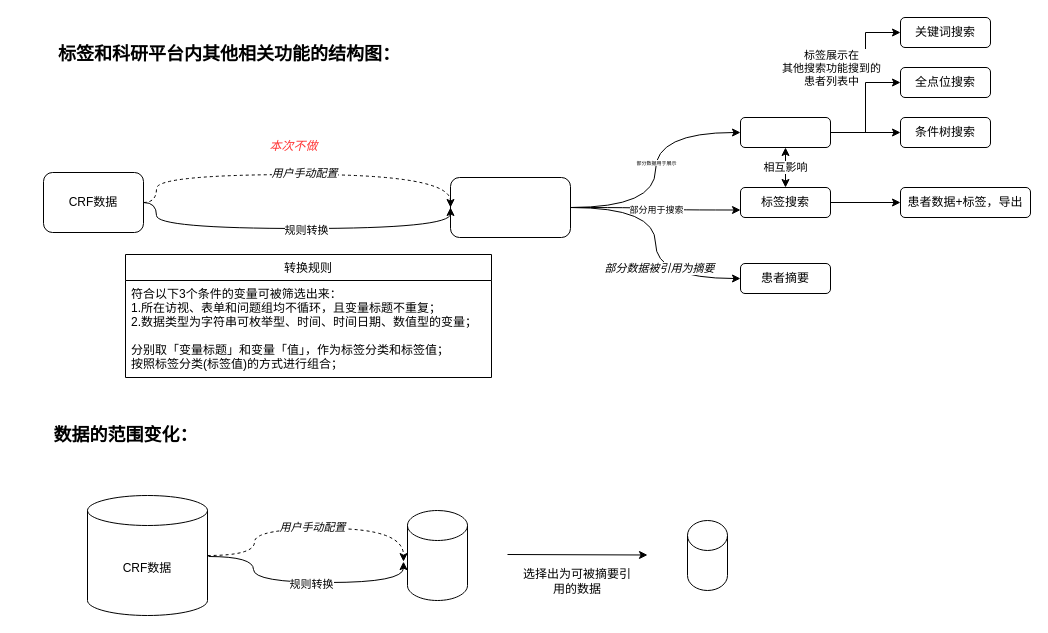
Some shapes in this 1048 by 633 pixel diagram are drawn without their labels. Each missing label, with the centre of its shape:
患者摘要数据: (707,555)
标签: (510,207)
标签展示: (785,132)
标签数据: (437,555)
